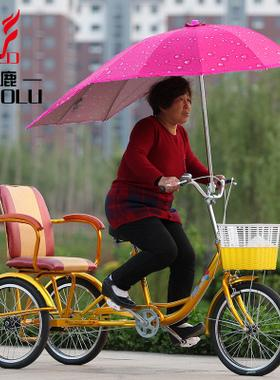only_driver: (2, 19, 280, 370)
